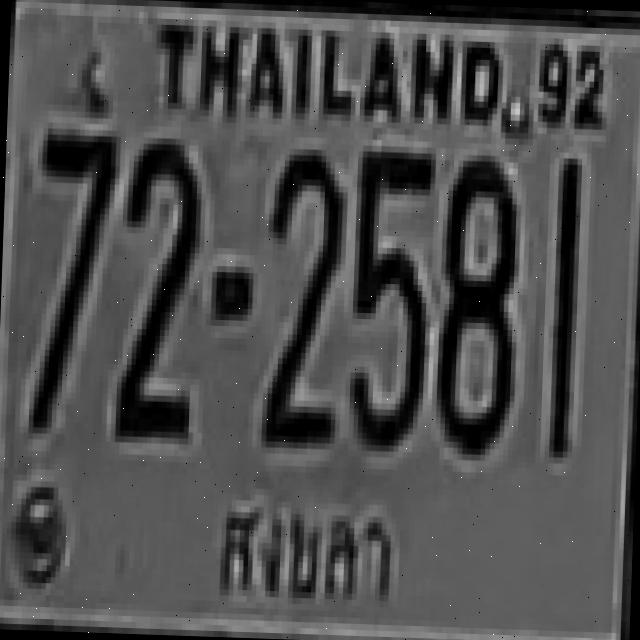2: (114, 133, 201, 400), (113, 182, 199, 436), (260, 151, 342, 416), (116, 134, 198, 381), (259, 198, 340, 440), (262, 148, 340, 395)
7: (28, 128, 116, 424), (30, 128, 116, 382), (31, 128, 116, 352)
8: (430, 153, 518, 450)
Songkhla: (204, 483, 416, 621)
